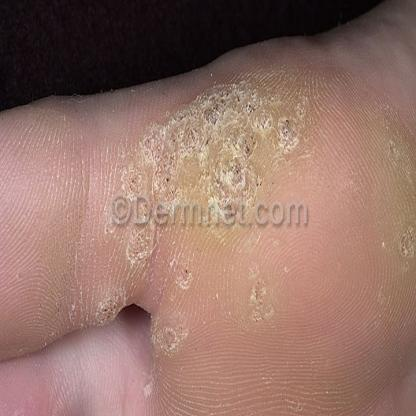Warts: (134, 82, 316, 188)
